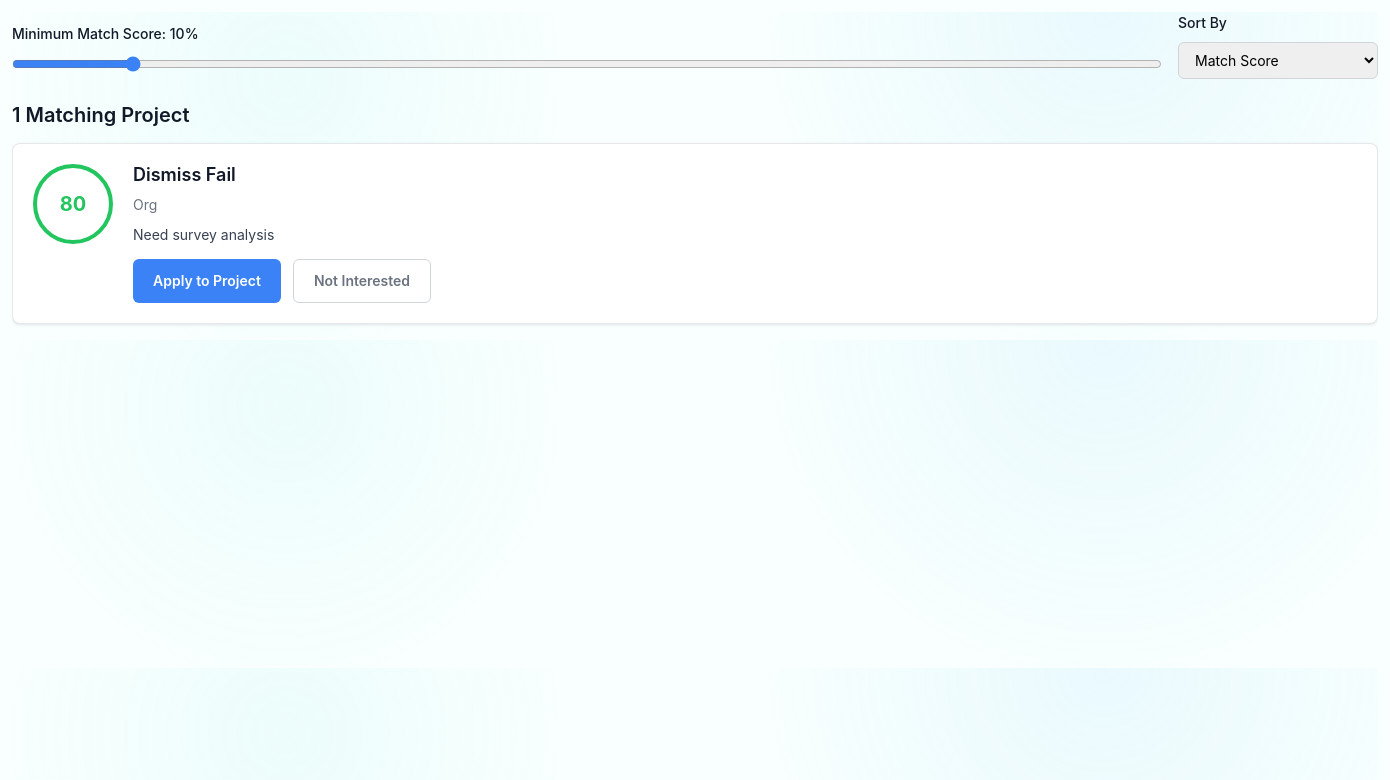
Test: ResearcherMatchesView › alerts when dismiss fails
The image size is (1390, 780).
expect the heading "Dismiss Fail" is shown: met, box [133,164,236,185]
Click the button "Not Interested".
click(362, 281)  # box [293,259,431,303]
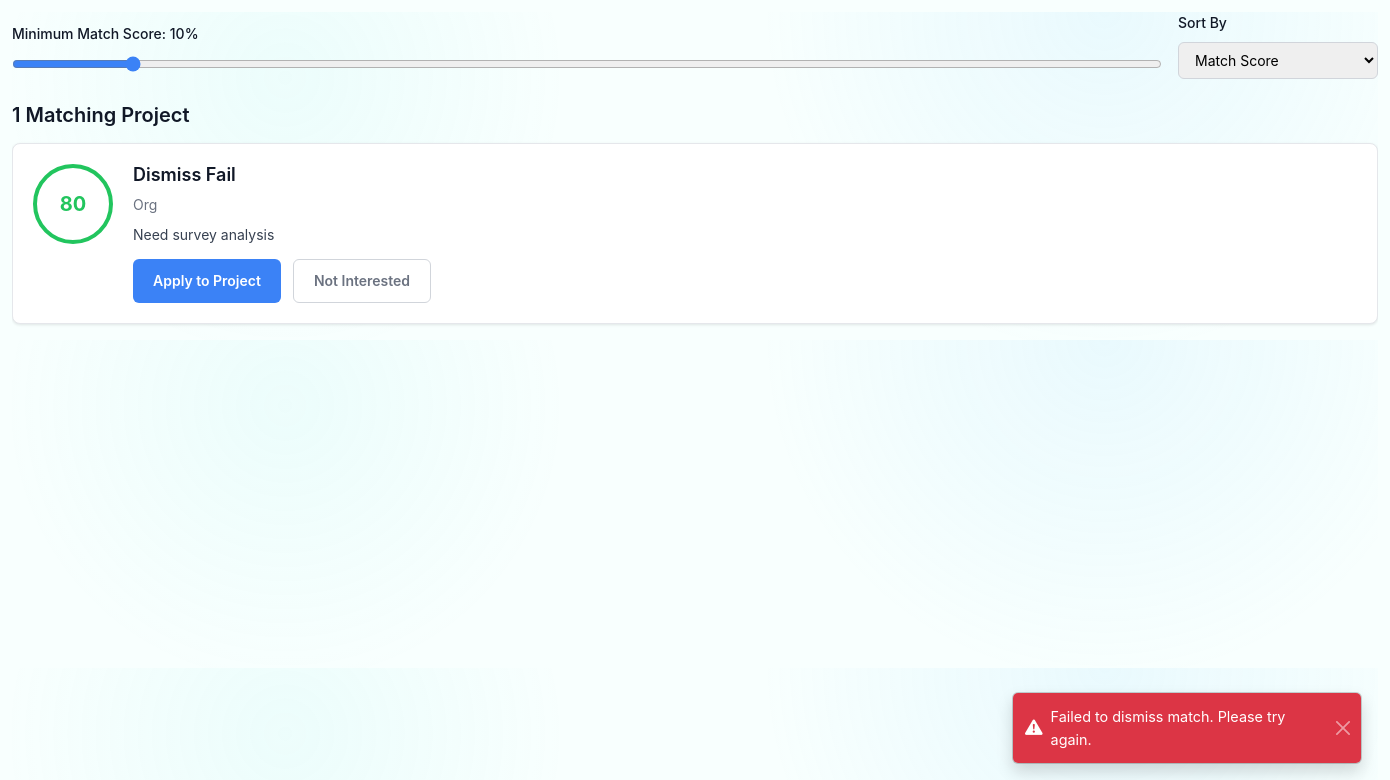
expect the text "Failed to dismiss match. Please try again." is shown: met, box [1051,708,1286,748]
